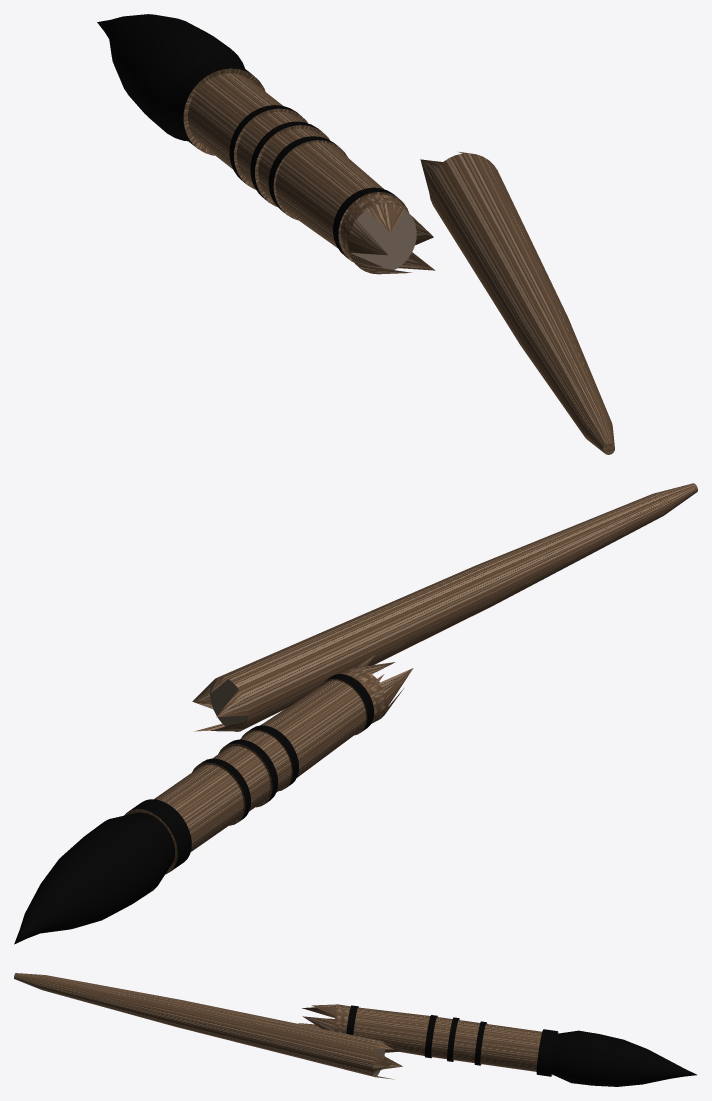
File: pincel.fbx
3 views of the same model, one above another, from view 1: azimuth 30°, elevation 25°; view 2: azimuth 150°, elevation 25°; view 3: azimuth 270°, elevation 25° (orthographic). The views are drawn at different scales.
Parts seen in each view (by area): view 1: Cilindro.017; view 2: Cilindro.017; view 3: Cilindro.017.
Boxes of the visible parts, bbox=[...] form: Cilindro.017: bbox=[97, 14, 614, 454]; Cilindro.017: bbox=[14, 483, 697, 944]; Cilindro.017: bbox=[14, 973, 696, 1086].
Size of the model in its own units: 32.62 by 17.85 by 149.
